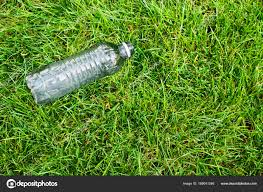plastic_bottle: (24, 39, 137, 105)
